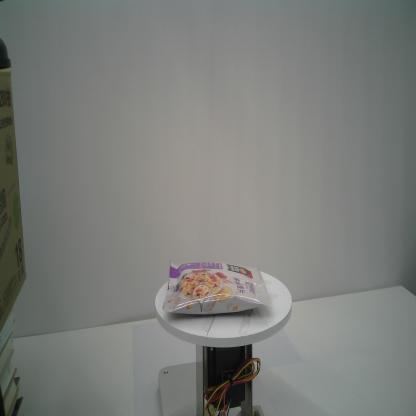Instant Drink: (162, 260, 273, 315)
